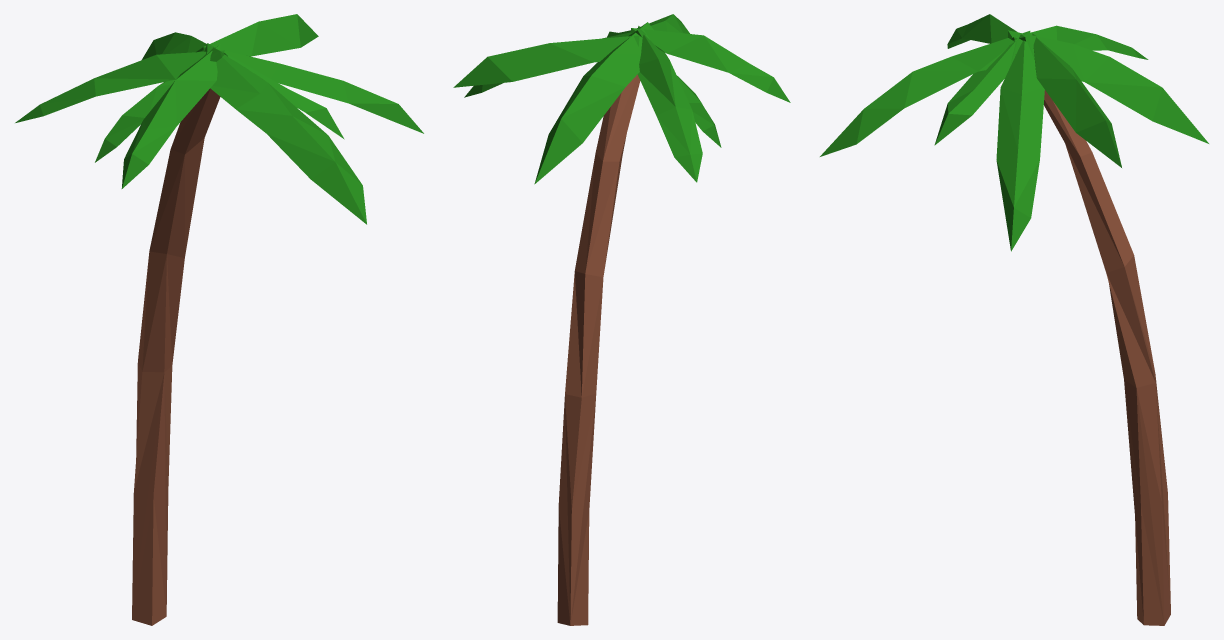
Rendered from tree7.glb.
3 renders of one model, left to right at view 1: azimuth 30°, elevation 25°; view 2: azimuth 150°, elevation 25°; view 3: azimuth 270°, elevation 25°, orthographic. The views are drawn at different scales.
Visible parts, largest first — view 1: Tree_09_summer; view 2: Tree_09_summer; view 3: Tree_09_summer.
Part boxes in pixels (x1,y1,x2,y2): Tree_09_summer: [15, 14, 423, 625]; Tree_09_summer: [453, 14, 790, 625]; Tree_09_summer: [820, 14, 1208, 625].
Size of the model in its own units: 1.28 by 2.28 by 1.37.
Materials: 1 (1 with a texture image).
